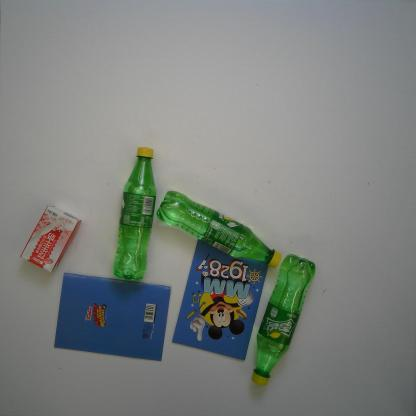Drink: (156, 190, 284, 269), (251, 253, 317, 387), (112, 146, 157, 281)
Milk: (19, 205, 82, 274)
Stationery: (171, 238, 269, 361), (53, 273, 172, 362)
